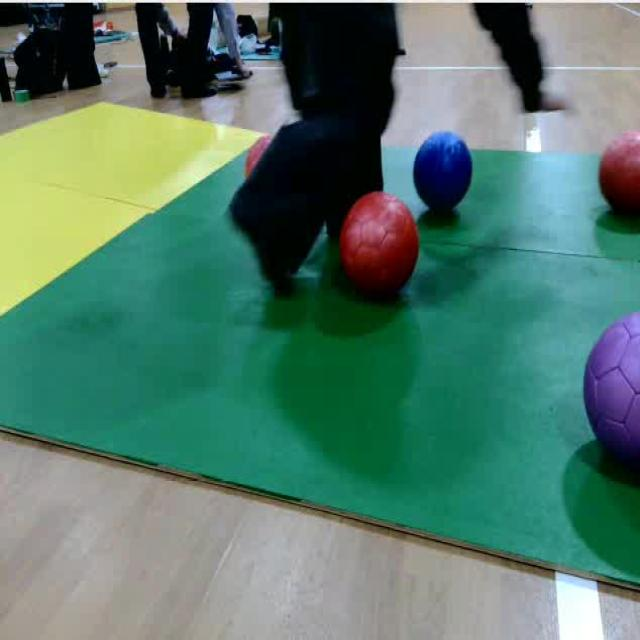blue_ball: (411, 132, 473, 216)
purple_ball: (581, 309, 640, 475)
red_ball: (348, 193, 419, 310), (598, 129, 640, 226)
